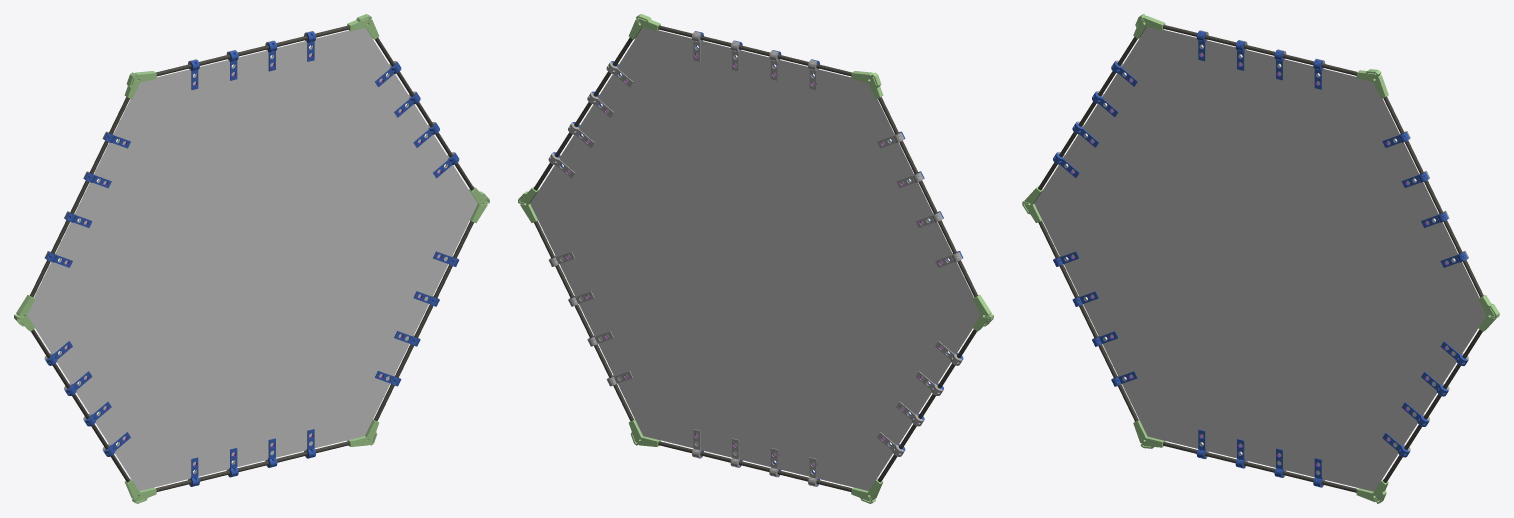
Rendered from solarsail.glb.
3 views of the same model, side by side, from view 1: azimuth 30°, elevation 25°; view 2: azimuth 150°, elevation 25°; view 3: azimuth 330°, elevation 25° (orthographic).
Bounding box in the file's own units: 1057 × 921 × 19.92.
